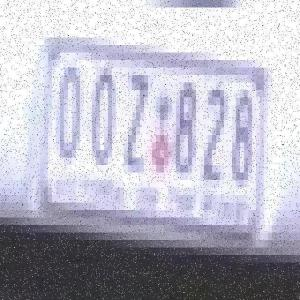Plate: (28, 10, 276, 255)
